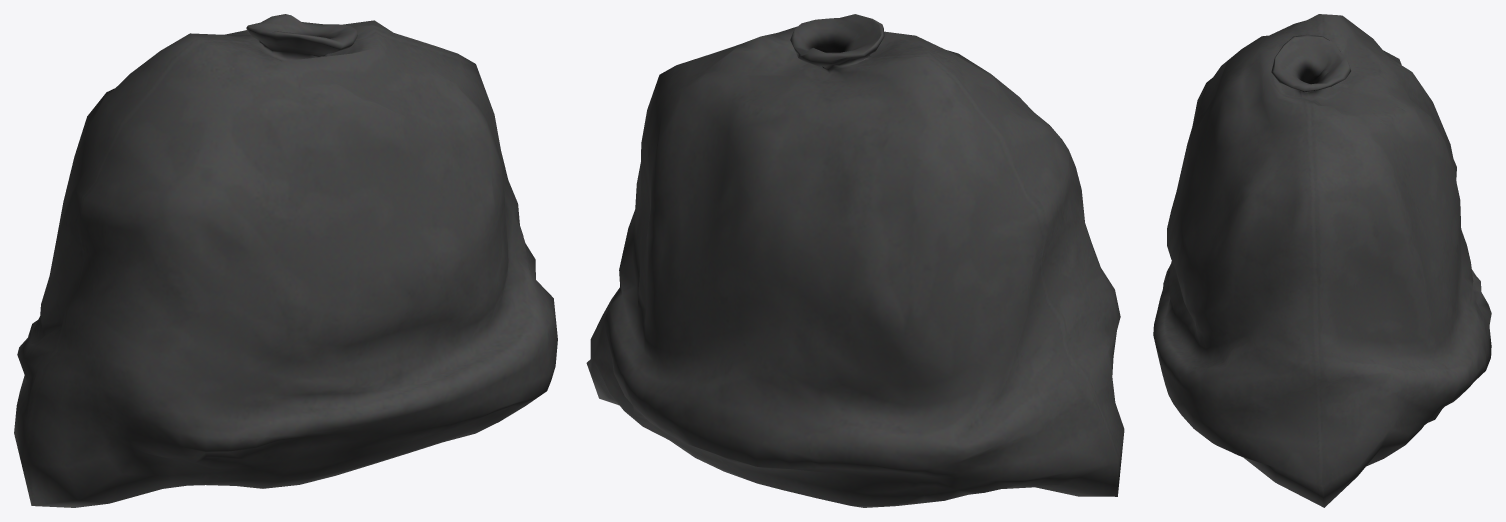
File: Garbage_Bag_01.fbx
3 renders of one model, left to right at view 1: azimuth 30°, elevation 25°; view 2: azimuth 150°, elevation 25°; view 3: azimuth 270°, elevation 25°, orthographic. The views are drawn at different scales.
Parts seen in each view (by area): view 1: Garbage_Bag_01_LOD0; view 2: Garbage_Bag_01_LOD0; view 3: Garbage_Bag_01_LOD0.
Boxes of the visible parts, box(x1,y1,x2,y2) form: Garbage_Bag_01_LOD0: box(14, 14, 557, 507); Garbage_Bag_01_LOD0: box(586, 14, 1124, 507); Garbage_Bag_01_LOD0: box(1153, 14, 1491, 507).
Size of what is drawn, in the model's own units: 73.79 by 57.55 by 48.67.
